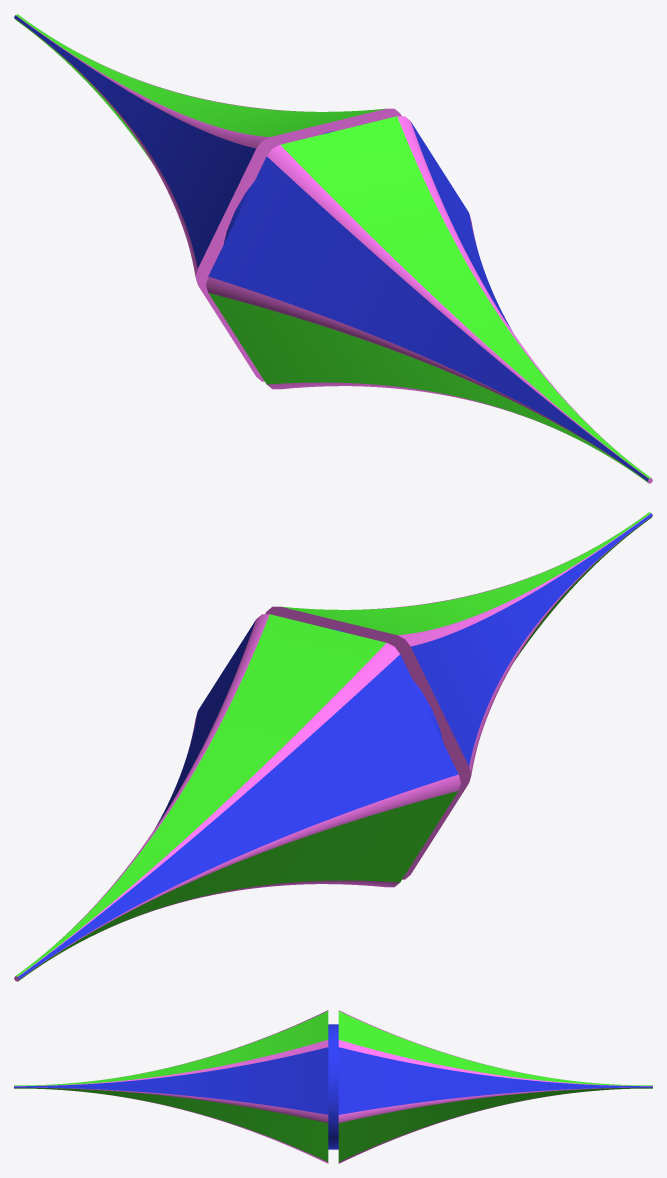
Rendered from Velox Probe Character.fbx.
The picture shows the model from 3 angles, top to bottom: view 1: azimuth 30°, elevation 25°; view 2: azimuth 150°, elevation 25°; view 3: azimuth 270°, elevation 25°; orthographic projection. The views are drawn at different scales.
Parts seen in each view (by area): view 1: One Side, The Other Side; view 2: The Other Side, One Side; view 3: One Side, The Other Side, Center.
Part boxes in pixels (box(x1,y1,x2,y2)): One Side: box(206, 116, 652, 483); The Other Side: box(14, 14, 401, 381); The Other Side: box(14, 614, 460, 981); One Side: box(265, 512, 652, 879); One Side: box(14, 1010, 328, 1163); The Other Side: box(338, 1010, 652, 1163); Center: box(328, 1024, 338, 1149).
Bounding box in the file's own units: 17.7 × 15.59 × 73.2.
